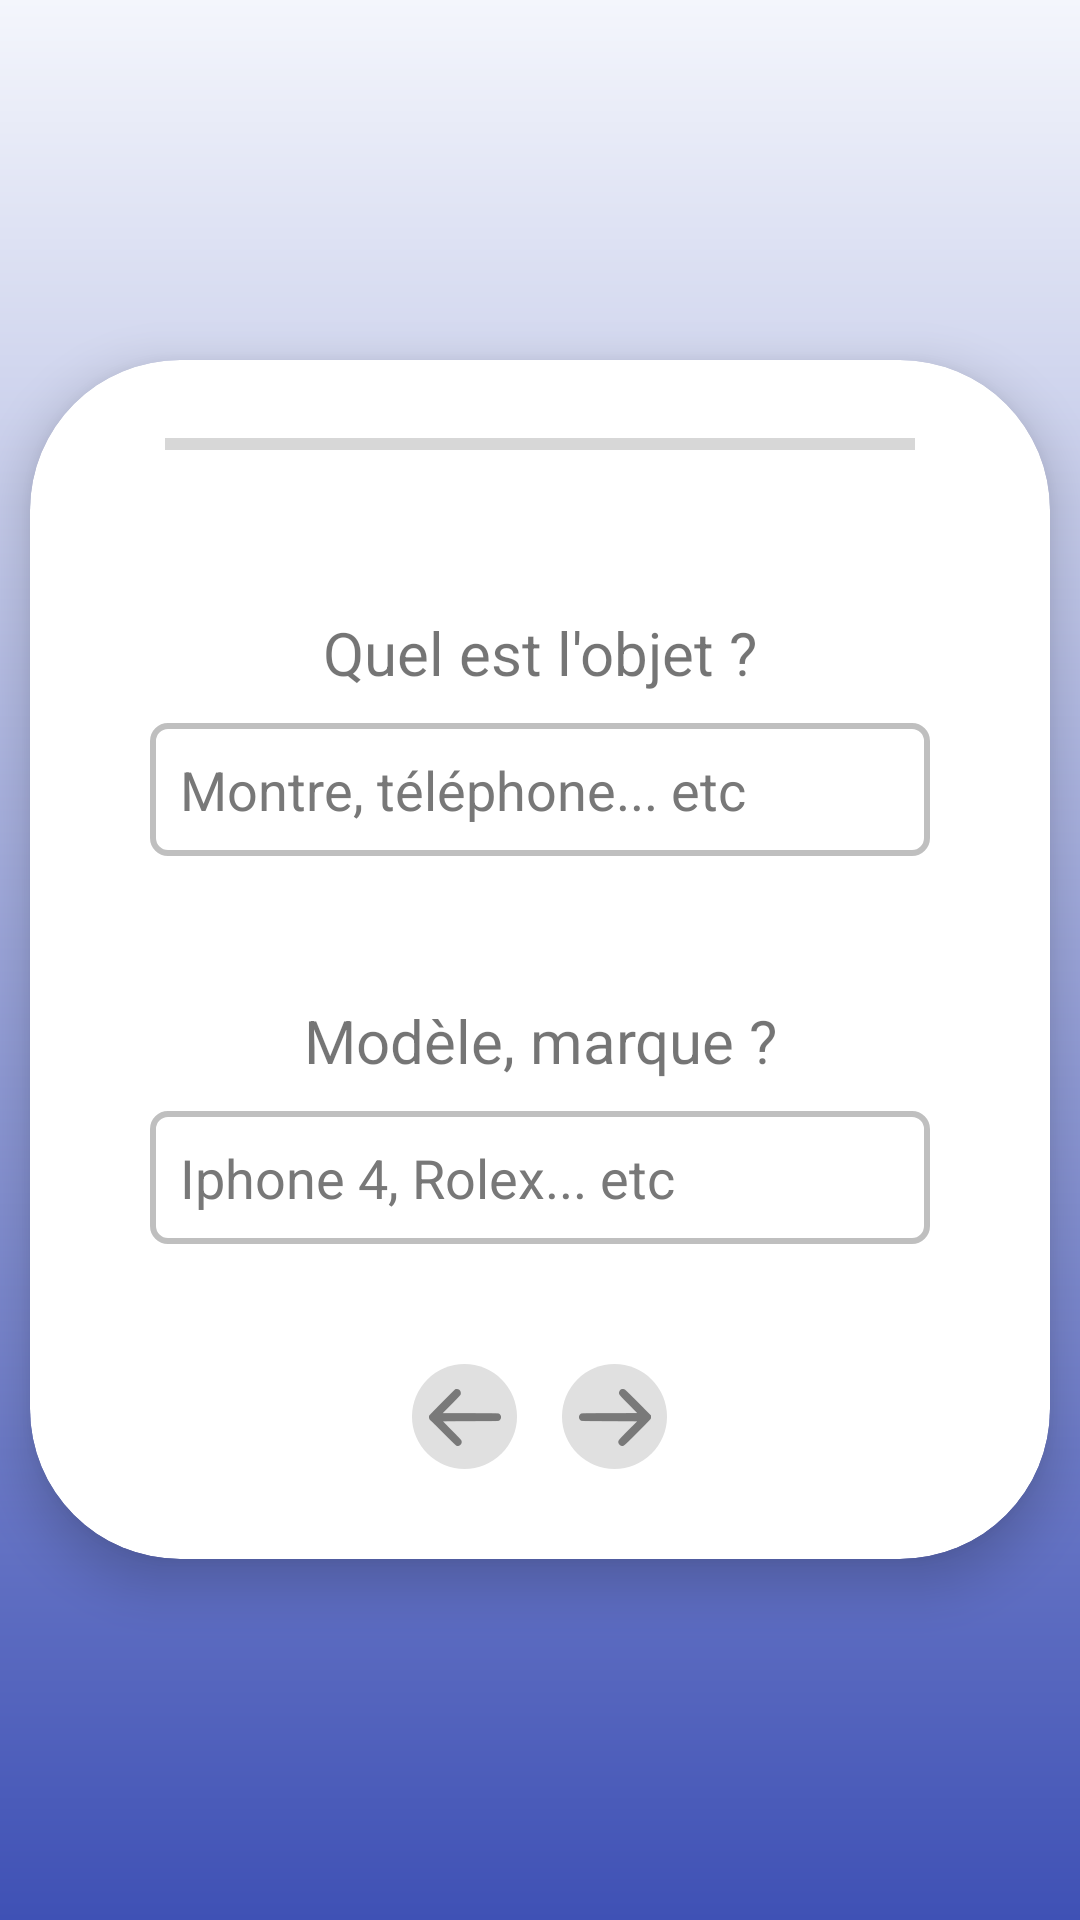

Locate icon controls on the screen. Image size 1080px×1920px, boxes as (x1, y1, x2, y2).
arrows left: (412, 1364, 517, 1469)
arrows right: (562, 1364, 667, 1469)
